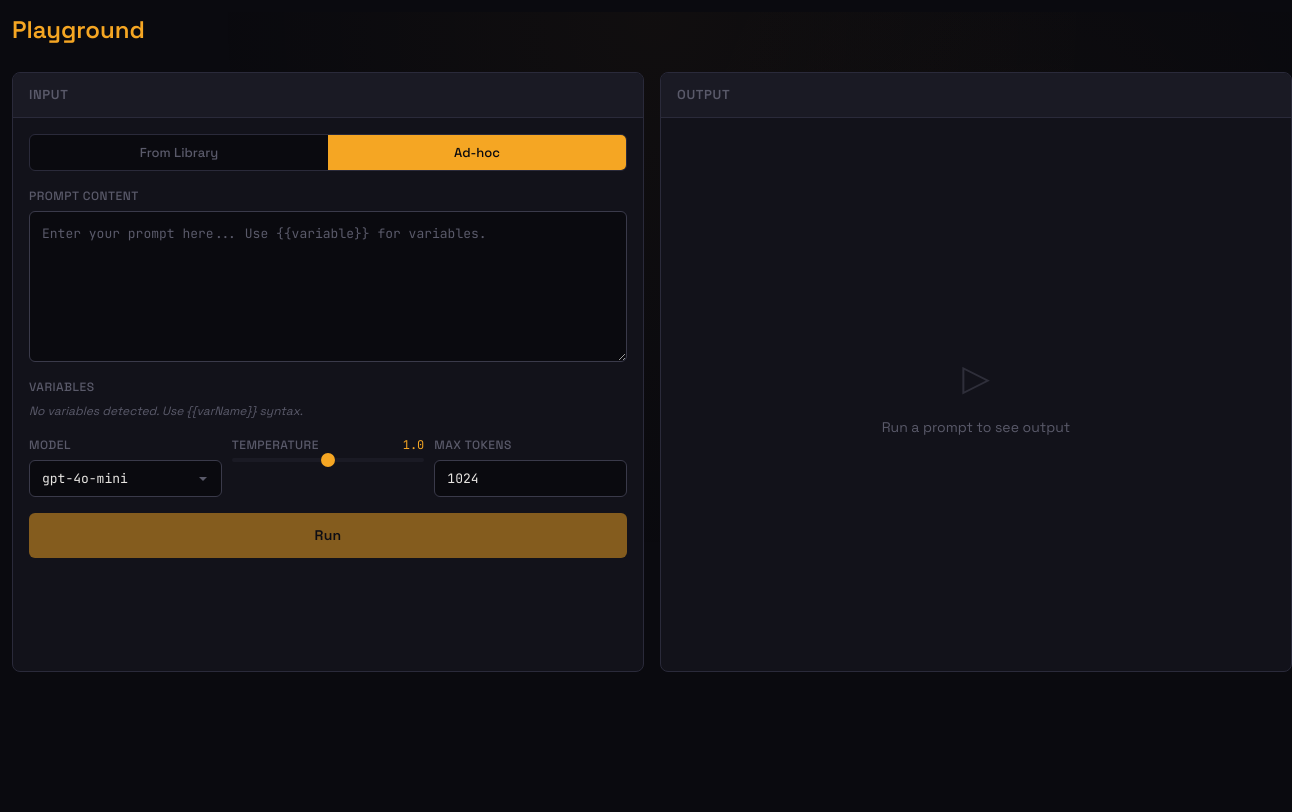
it: PlaygroundPage › shows stats after a successful run
The width and height of the screenshot is (1292, 812).
Expected: the dropdown showing "gpt-4o-mini" is shown, [29, 460, 222, 497]
Type "Test" into the text box with placeholder "Enter your prompt here... Use {{variable}} for variables." at (328, 286), box [29, 211, 627, 362]
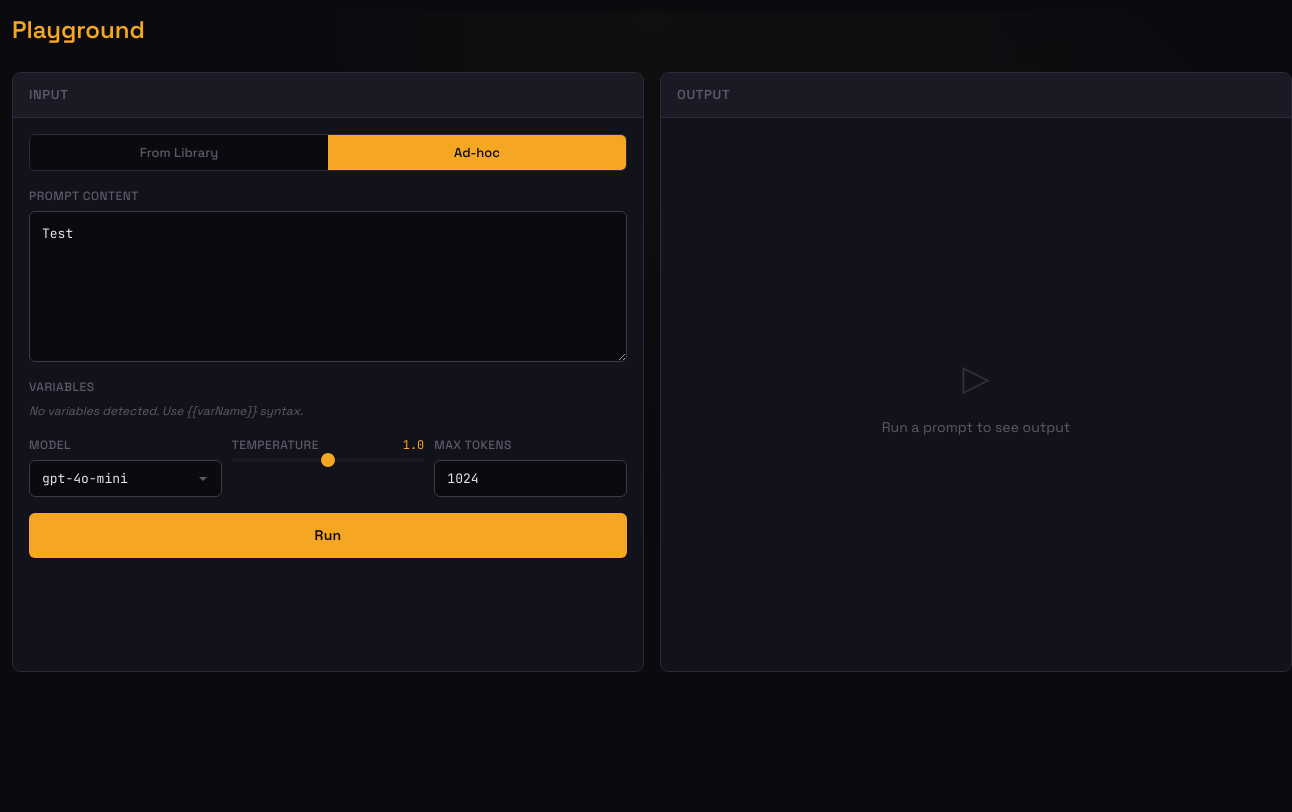
Click the button "Run" at (328, 536), box [29, 513, 627, 558]
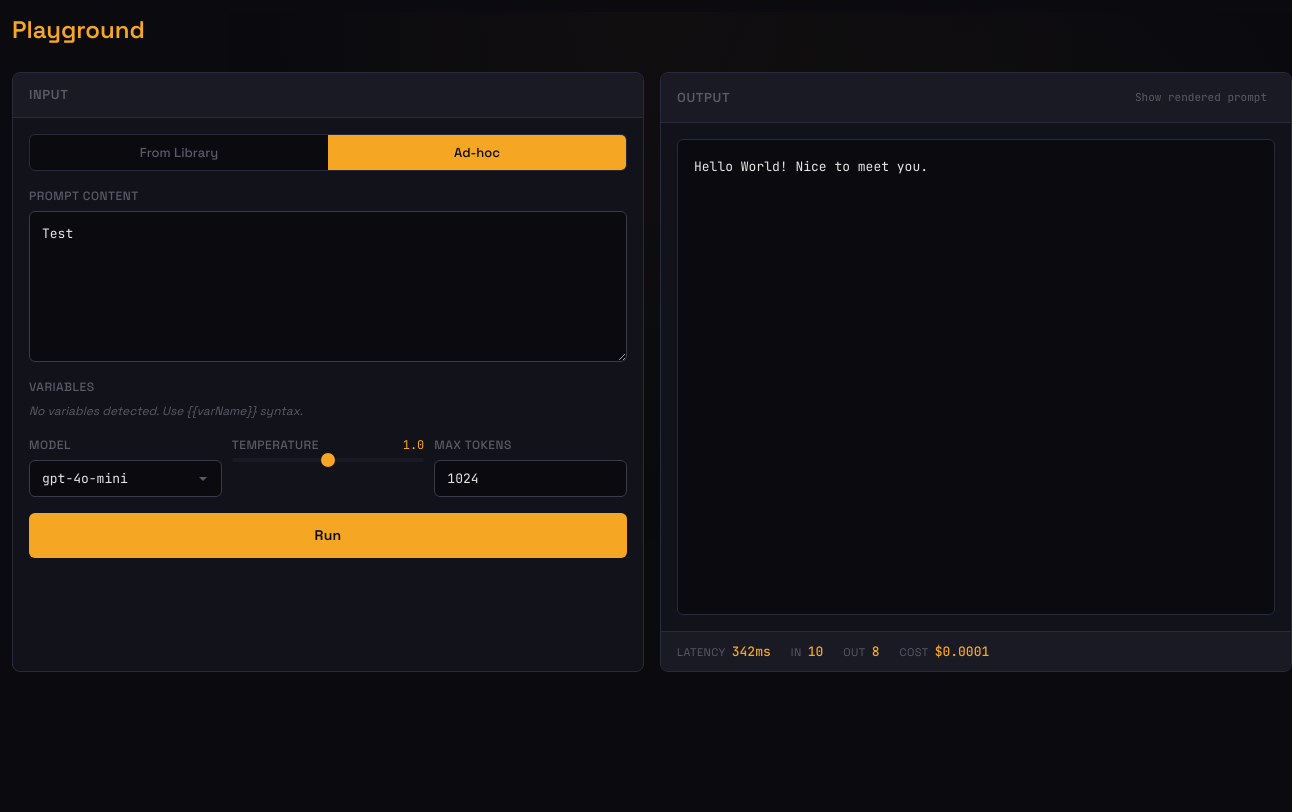
Expected: the text "342ms" is shown, [732, 642, 771, 661]
Expected: the text "10" is shown, [808, 642, 823, 661]
Expected: the text "8" is shown, [872, 642, 880, 661]
